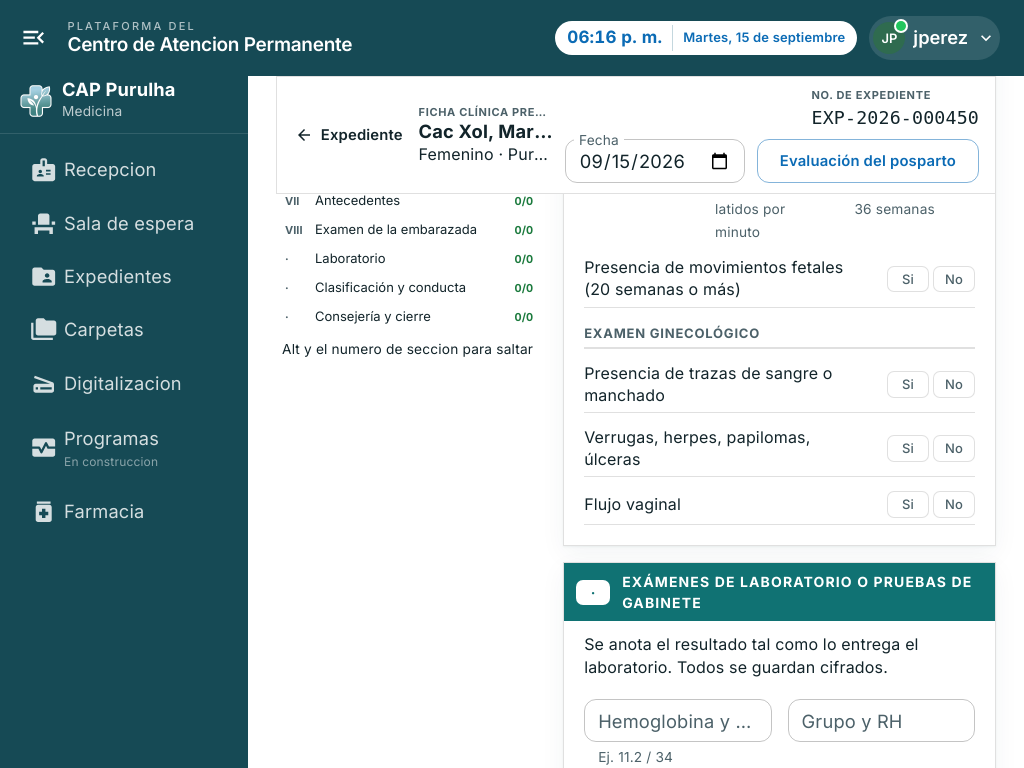
it: la hoja prenatal › la raya de «describa» solo aparece cuando la respuesta es que sí
(page scrolled)
Expected: the field labelled "Describa" is not shown
Click the radio button labelled "Si" next to "Presencia de trazas de sangre o manchado" at (908, 385), box [887, 371, 929, 398]
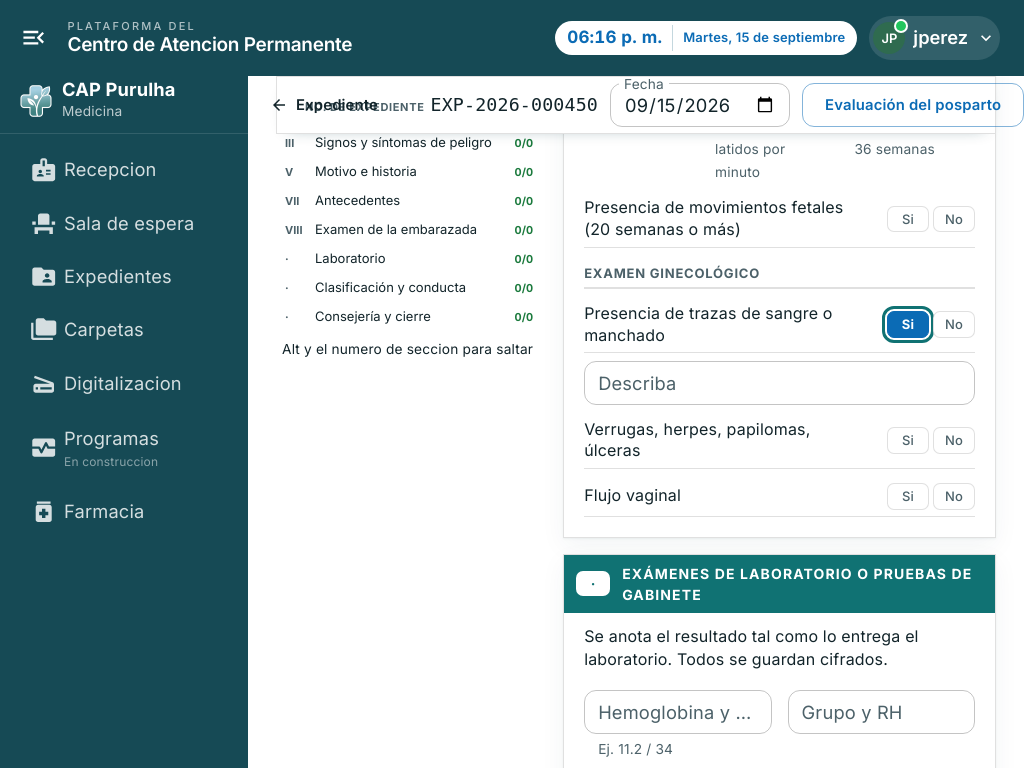
Expected: the number of fields labelled "Describa" is 1, [584, 361, 975, 405]
